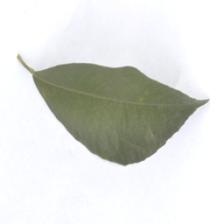healthy: (33, 62, 205, 169)
